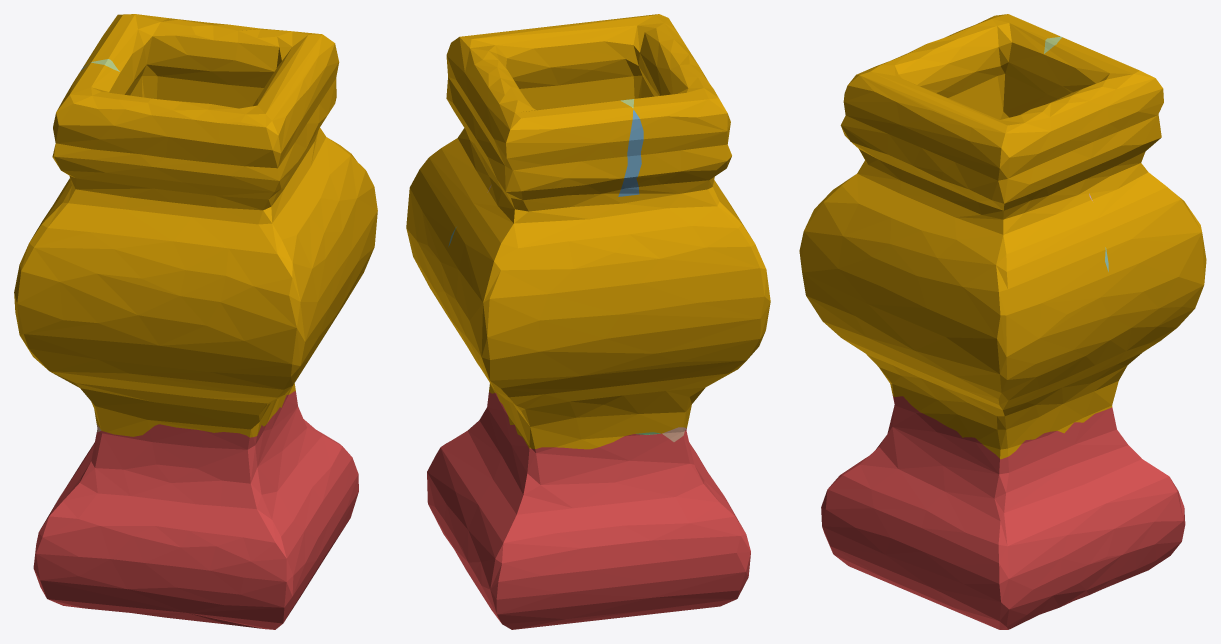
Rendered from fractured_39_8pcs.glb.
The picture shows the model from 3 angles, left to right: view 1: azimuth 30°, elevation 25°; view 2: azimuth 150°, elevation 25°; view 3: azimuth 270°, elevation 25°; orthographic projection. The views are drawn at different scales.
Visible parts, largest first — view 1: piece_0.obj, piece_1.obj; view 2: piece_0.obj, piece_1.obj, piece_2.obj; view 3: piece_0.obj, piece_1.obj.
Boxes of the visible parts, x1,y1,x2,y2 form: piece_0.obj: (14, 14, 377, 437); piece_1.obj: (33, 391, 358, 629); piece_0.obj: (406, 14, 770, 449); piece_1.obj: (427, 392, 750, 629); piece_2.obj: (618, 109, 643, 196); piece_0.obj: (799, 14, 1206, 459); piece_1.obj: (821, 395, 1185, 629).
Size of the model in its own units: 0.7406 by 1 by 0.7411.
